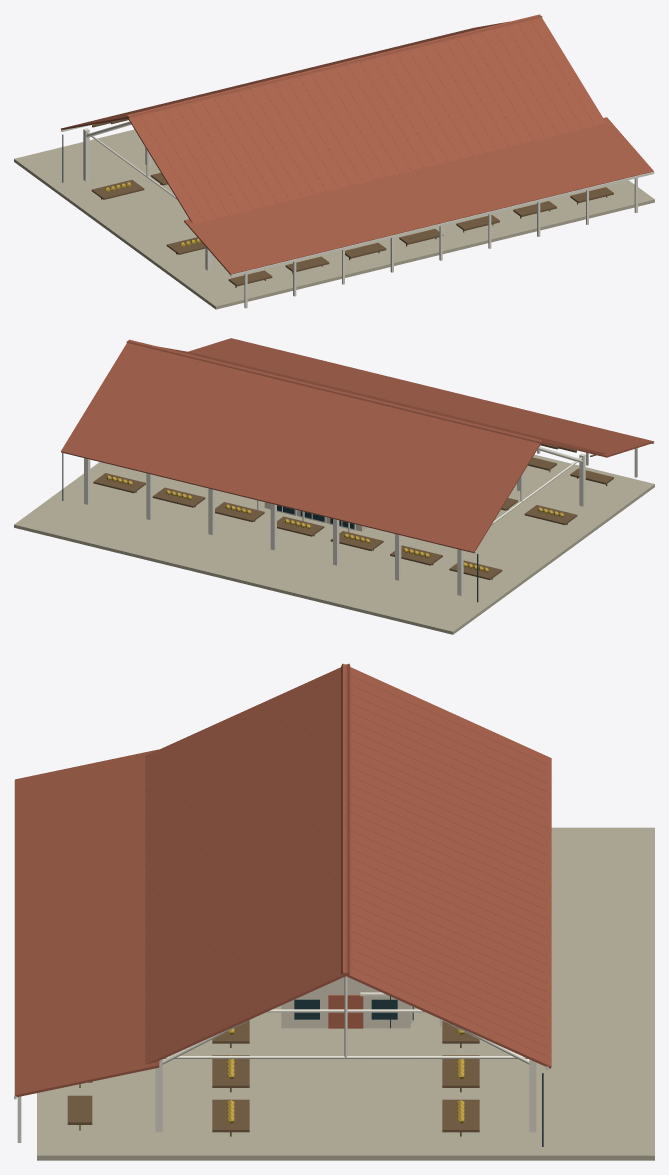
The model's file is vila-kit.glb.
3 renders of one model, top to bottom at view 1: azimuth 30°, elevation 25°; view 2: azimuth 150°, elevation 25°; view 3: azimuth 270°, elevation 25°, orthographic. The views are drawn at different scales.
Parts seen in each view (by area): view 1: pv-market-roof-red, pv-market-concrete, pv-market-wood, pv-market-trim; view 2: pv-market-roof-red, pv-market-concrete, pv-market-wood, pv-market-trim, pv-market-fruit; view 3: pv-market-roof-red, pv-market-concrete, pv-market-wood, pv-market-trim, pv-shop-two-plaster, pv-container-container, pv-shop-two-glass, pv-market-fruit.
Part boxes in pixels (<box>): pv-market-roof-red: <box>61,14,653,274</box>; pv-market-concrete: <box>14,129,654,309</box>; pv-market-wood: <box>91,118,613,287</box>; pv-market-trim: <box>61,121,654,308</box>; pv-market-roof-red: <box>61,338,653,552</box>; pv-market-concrete: <box>14,454,654,634</box>; pv-market-wood: <box>93,444,613,579</box>; pv-market-trim: <box>65,441,654,595</box>; pv-market-fruit: <box>106,475,563,572</box>; pv-market-roof-red: <box>15,663,551,1097</box>; pv-market-concrete: <box>37,827,654,1160</box>; pv-market-wood: <box>67,1020,479,1136</box>; pv-market-trim: <box>14,780,548,1142</box>; pv-shop-two-plaster: <box>281,977,410,1028</box>; pv-container-container: <box>328,995,363,1028</box>; pv-shop-two-glass: <box>294,999,413,1020</box>; pv-market-fruit: <box>227,1028,464,1123</box>.
Size of the model in its own units: 54 by 13.73 by 44.59.
